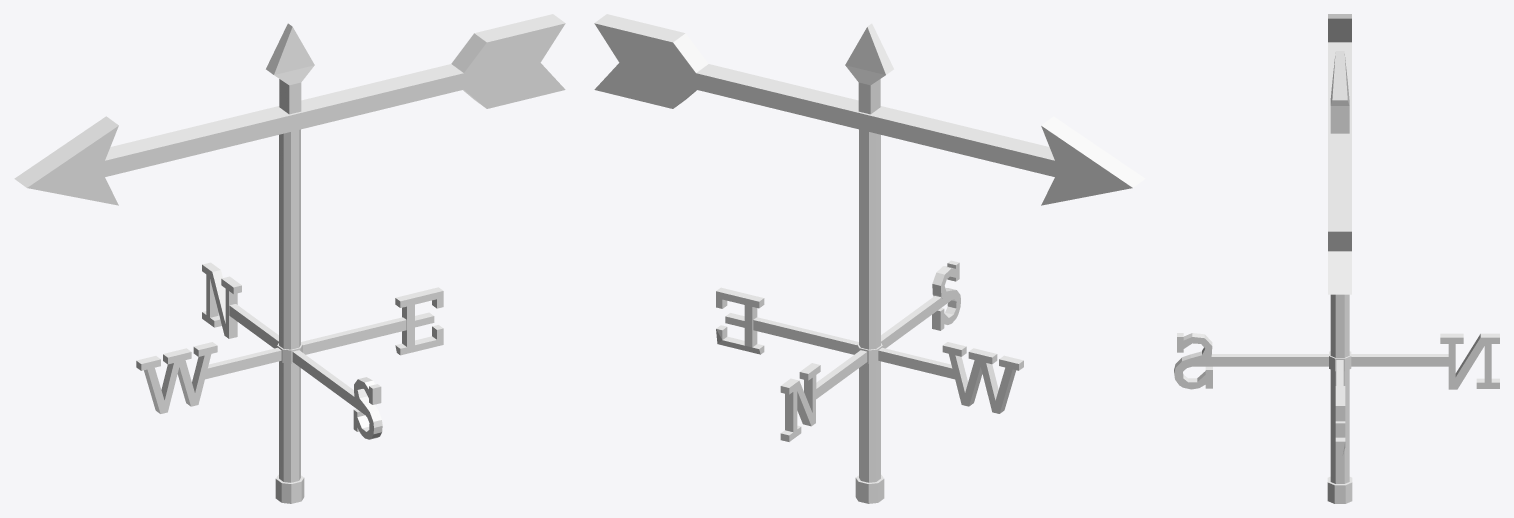
File: Prop_Weathervane_01.glb
3 views of the same model, side by side, from view 1: azimuth 30°, elevation 25°; view 2: azimuth 150°, elevation 25°; view 3: azimuth 270°, elevation 25° (orthographic). The views are drawn at different scales.
Parts seen in each view (by area): view 1: Prop_Weathervane_01, Prop_Weathervane_Top_01; view 2: Prop_Weathervane_01, Prop_Weathervane_Top_01; view 3: Prop_Weathervane_01, Prop_Weathervane_Top_01.
Part boxes in pixels (x1,y1,x2,y2): Prop_Weathervane_01: [136, 23, 443, 503]; Prop_Weathervane_Top_01: [14, 14, 565, 205]; Prop_Weathervane_01: [716, 23, 1023, 503]; Prop_Weathervane_Top_01: [594, 14, 1145, 205]; Prop_Weathervane_01: [1174, 51, 1499, 503]; Prop_Weathervane_Top_01: [1328, 14, 1351, 294].
Bounding box in the file's own units: 1.04 × 0.8723 × 0.5747.
Materials: 1 (1 with a texture image).
